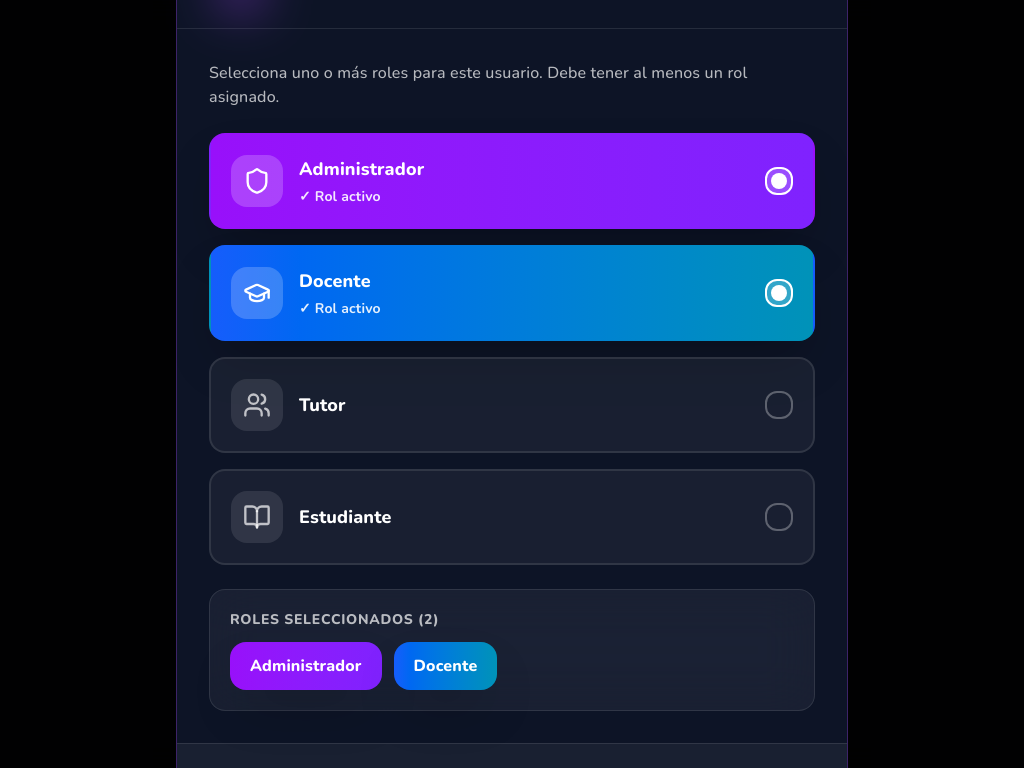
Scenario: MultiRoleModal › Interacciones › deselecciona un rol al hacer click nuevamente
expect the text "Roles seleccionados (2)" is shown: met, box top-left (230, 610), bottom-right (439, 629)
Note: Quitar rol Docente
Click the button "Docente ✓ Rol activo".
click(257, 293)  # box top-left (209, 245), bottom-right (815, 341)
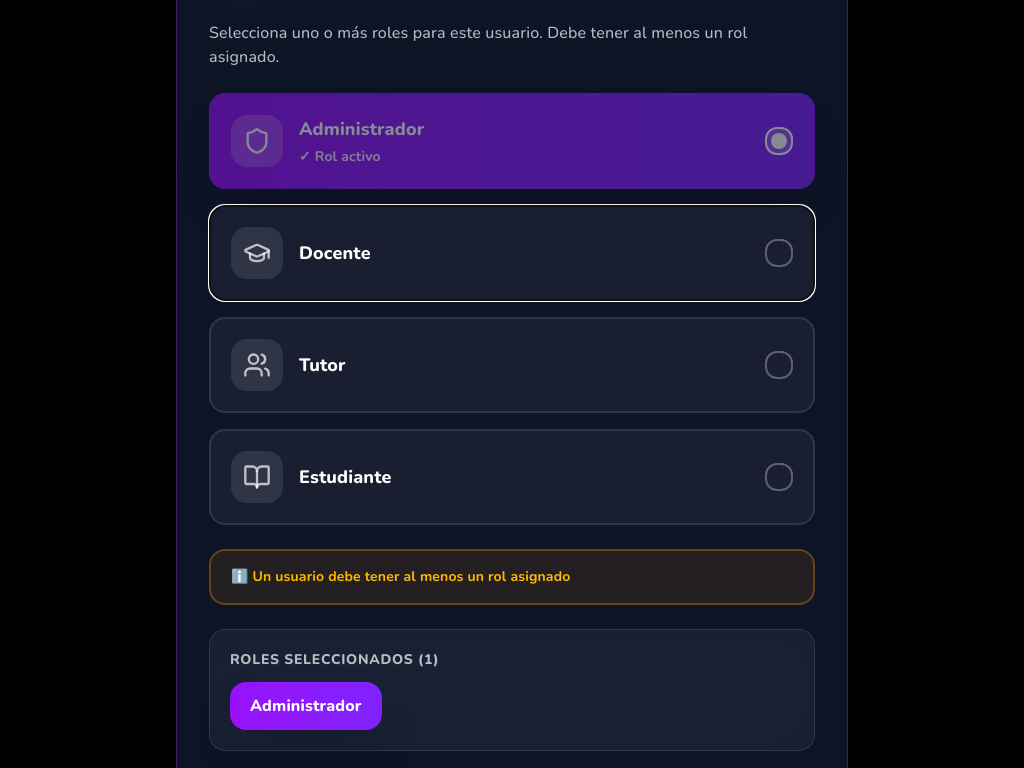
expect the text "Roles seleccionados (1)" is shown: met, box top-left (230, 650), bottom-right (439, 669)
